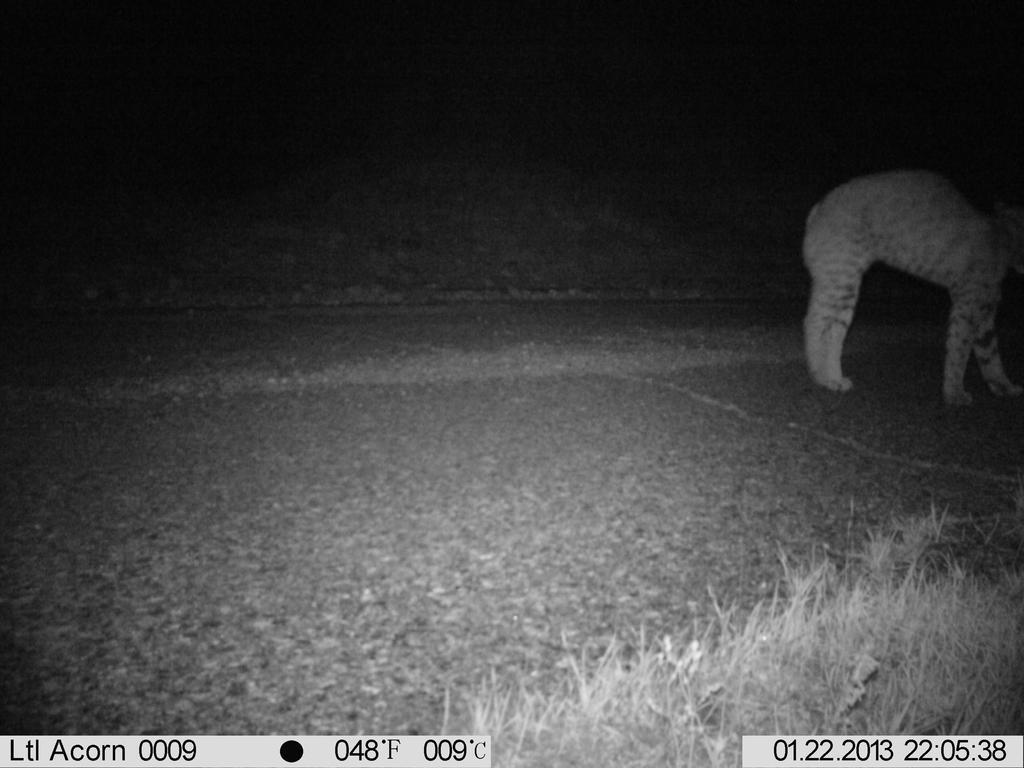bobcat: (797, 162, 1023, 413)
